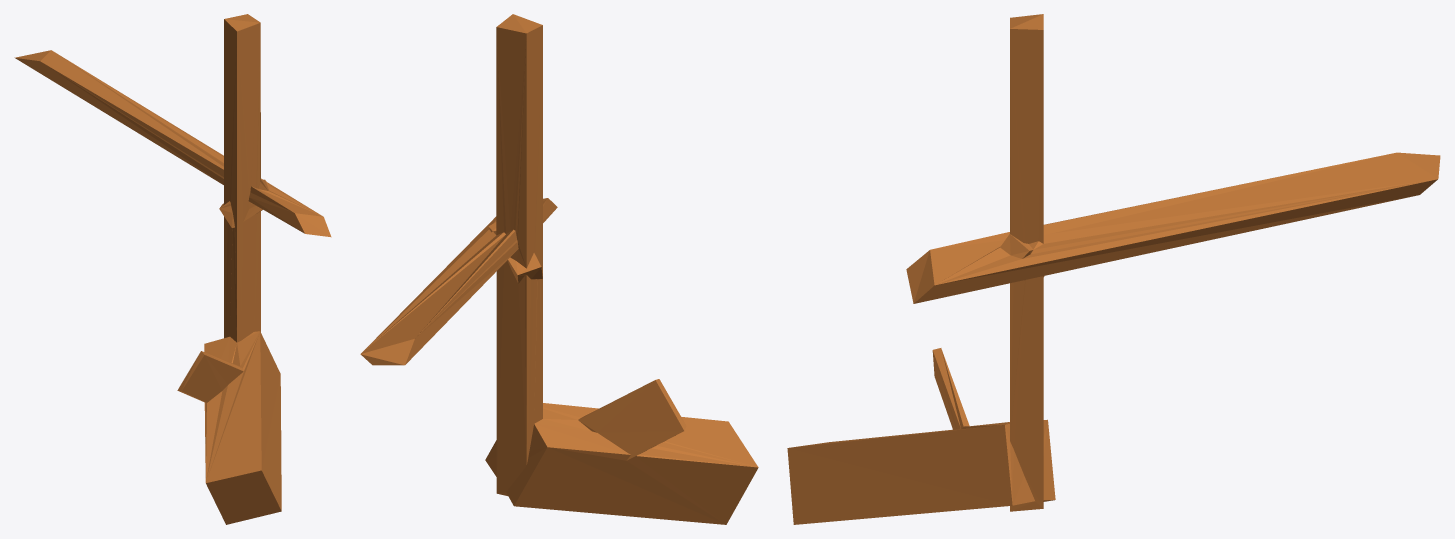
3 renders of one model, left to right at view 1: azimuth 30°, elevation 25°; view 2: azimuth 150°, elevation 25°; view 3: azimuth 270°, elevation 25°, orthographic. The views are drawn at different scales.
Visible parts, largest first — view 1: 542_Cube.2187; view 2: 542_Cube.2187; view 3: 542_Cube.2187.
Part boxes in pixels (x1,y1,x2,y2): 542_Cube.2187: (14, 14, 331, 524); 542_Cube.2187: (360, 14, 758, 524); 542_Cube.2187: (787, 14, 1440, 524).
Bounding box in the file's own units: 5.4 × 13.93 × 14.82.
